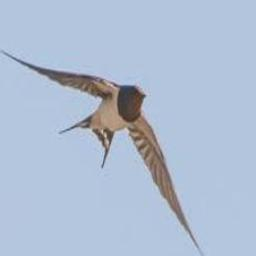Swallow: (0, 50, 208, 256)
